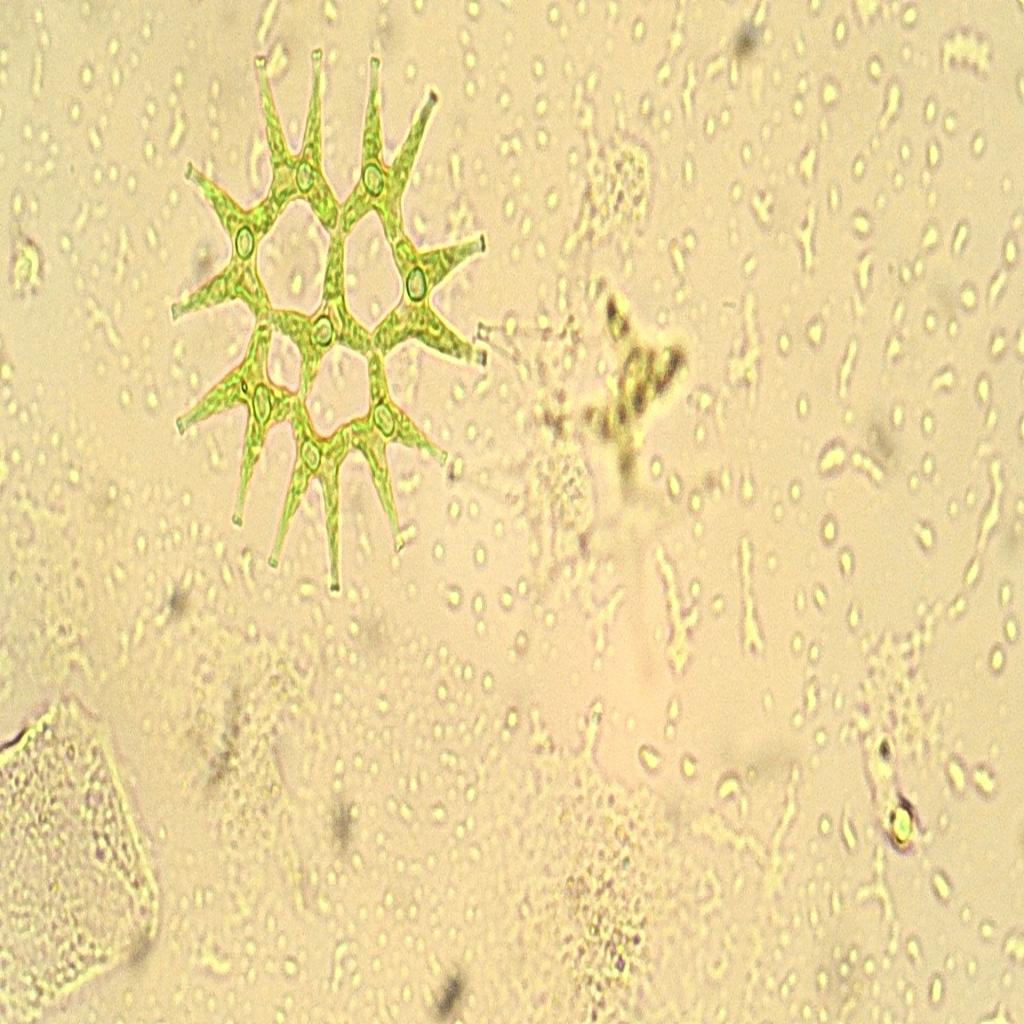Pediastrum_CTH: (164, 26, 500, 632)
